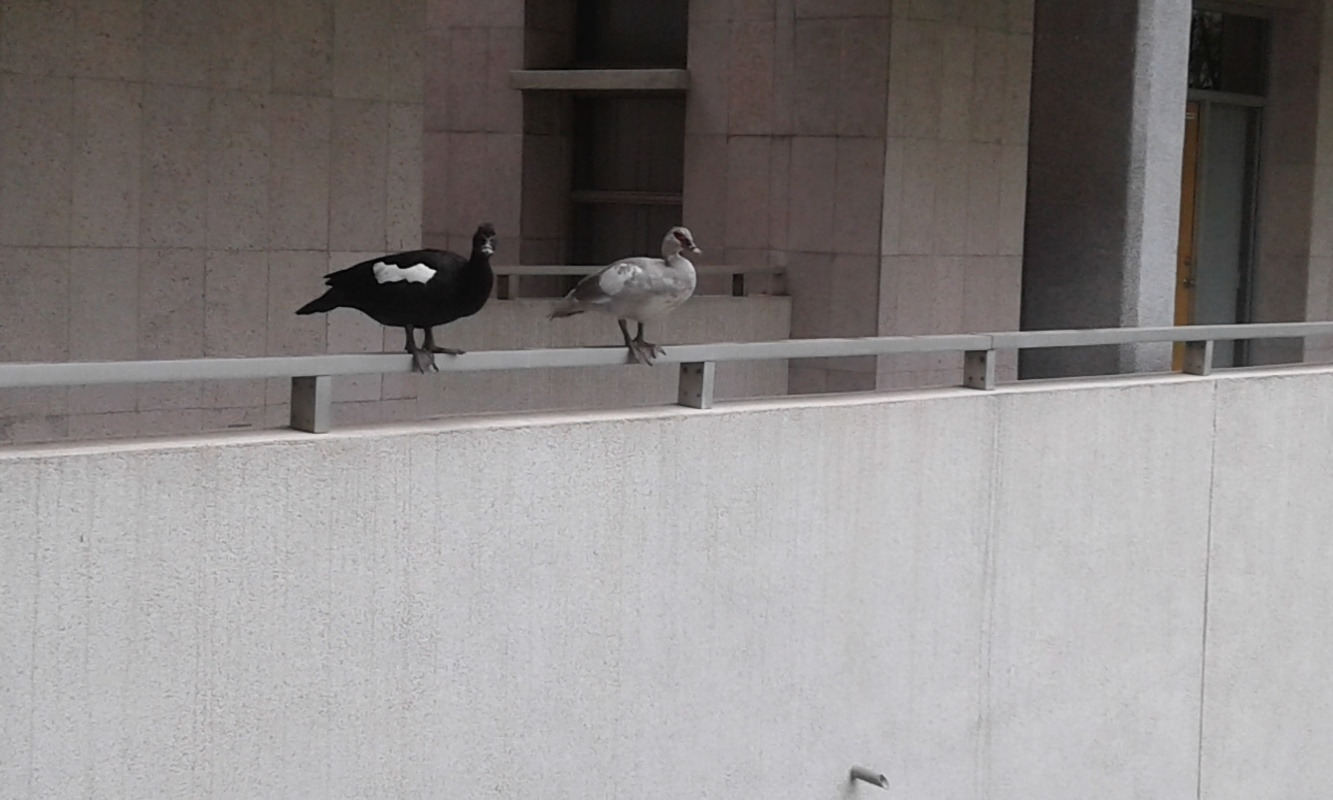pato: (317, 225, 504, 357), (570, 223, 701, 343)
